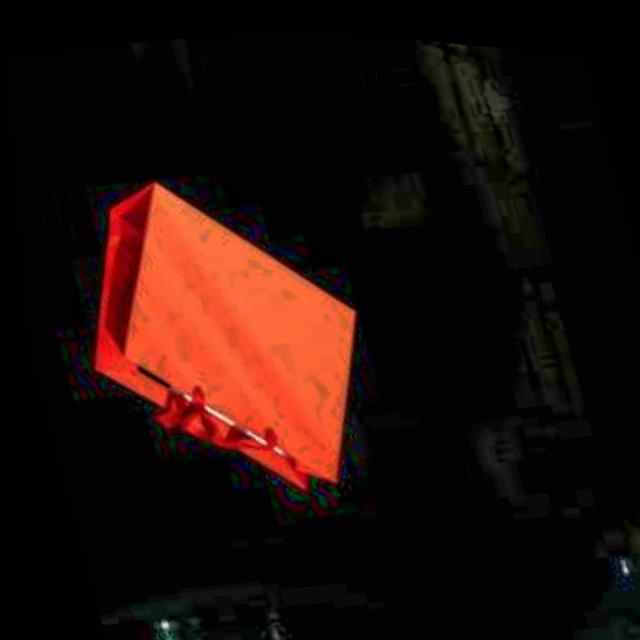Paper-bag: (31, 134, 421, 548)
